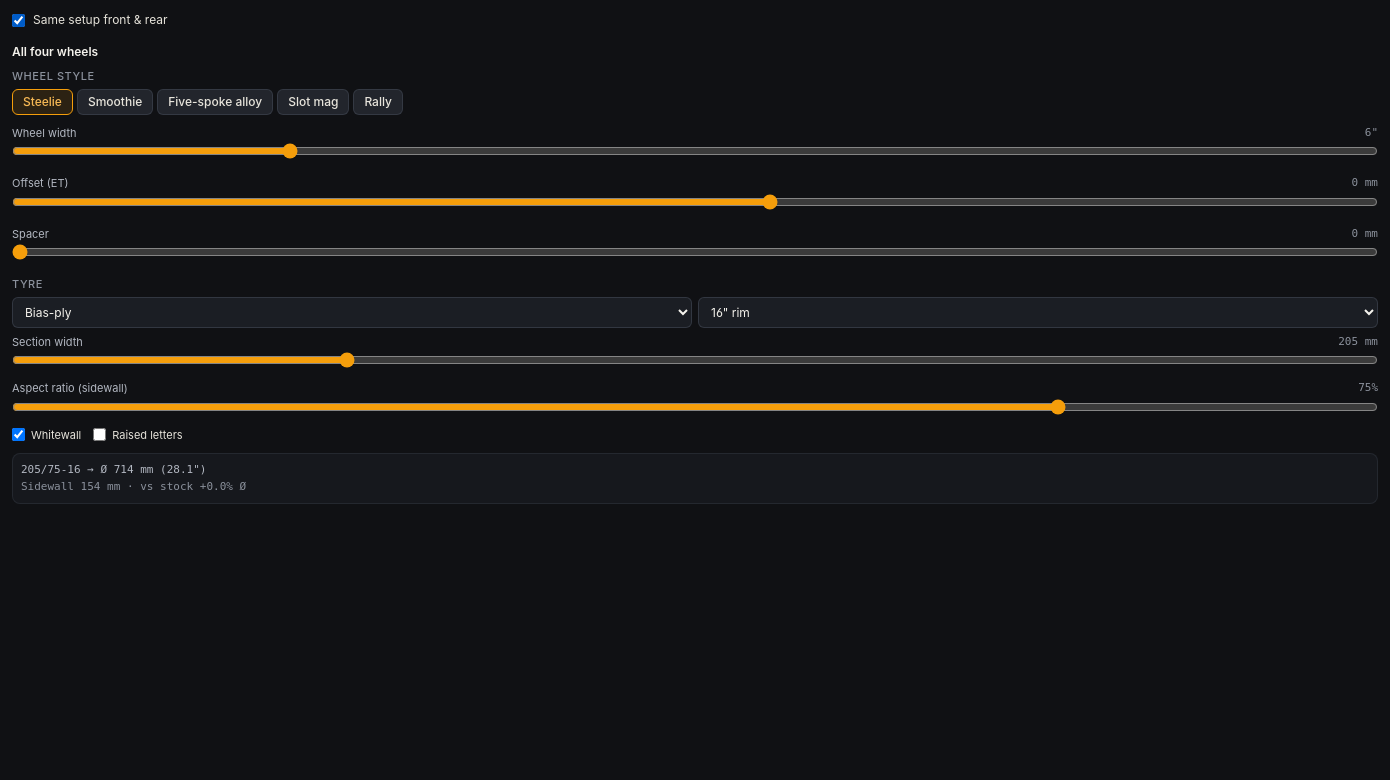
Test: WheelsTab › changing tyre width updates the build and the derived spec
Set the slider labelled "Section width 205 mm" to "295" at (715, 360), box [12,352,1378,368]
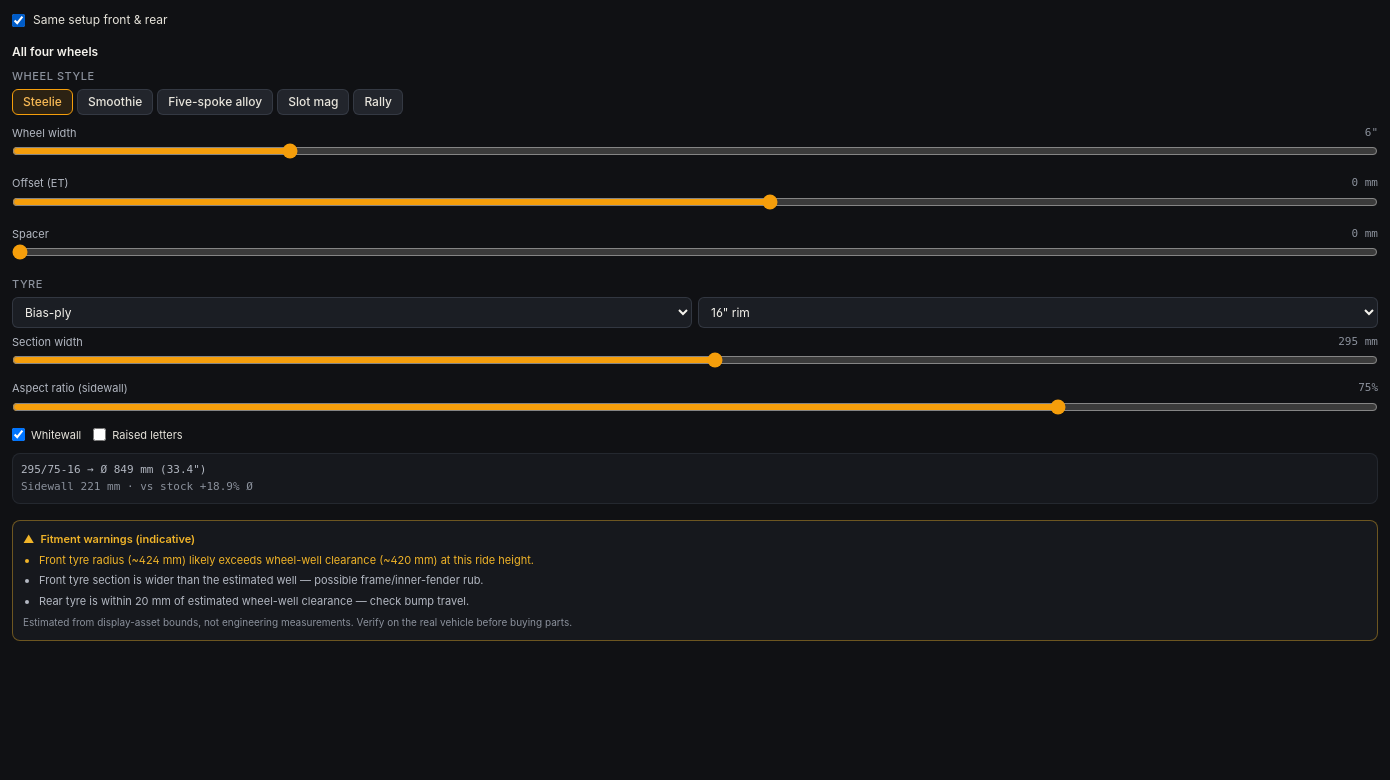
expect the text "295/75-16 → Ø 849 mm (33.4\")" is shown: met, box [21,463,206,476]
